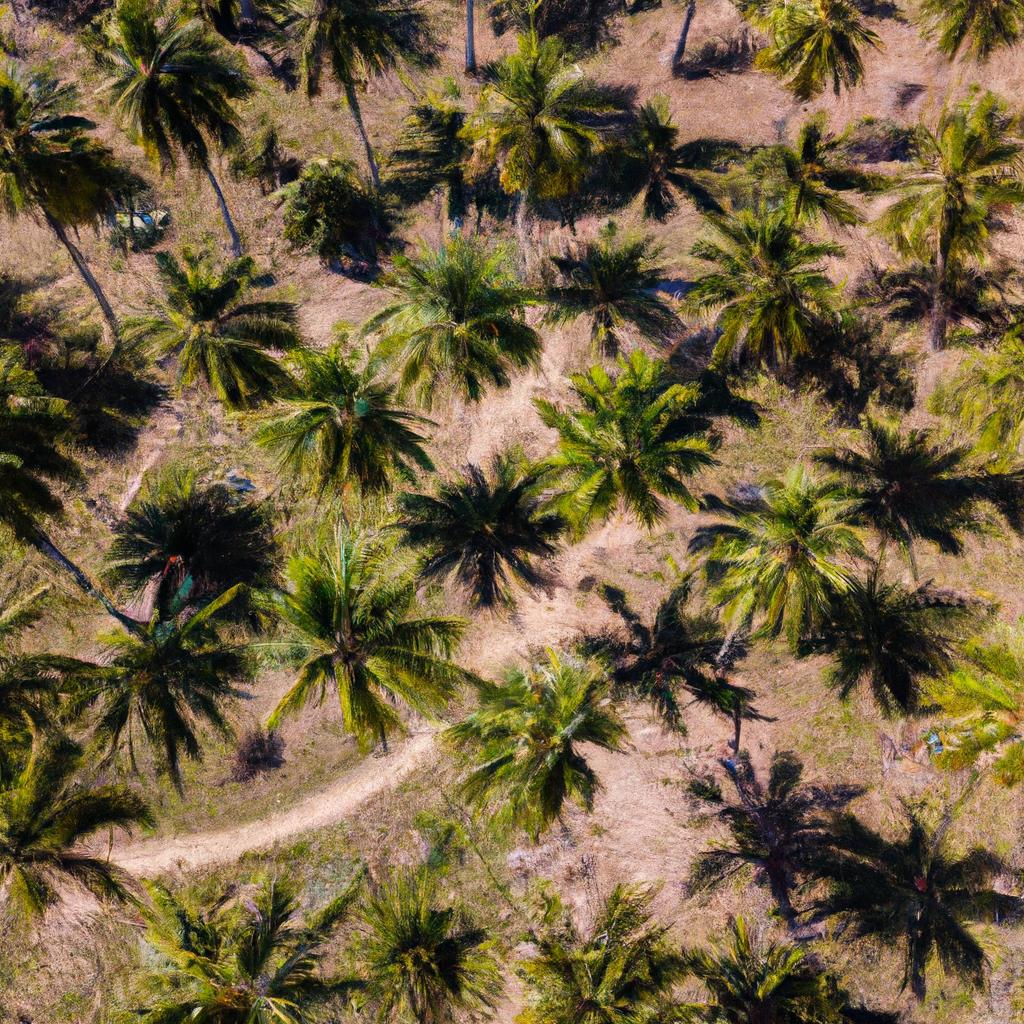coconut_tree: (243, 533, 484, 764), (446, 640, 627, 850), (525, 353, 722, 543), (443, 31, 636, 215), (671, 197, 866, 372), (357, 224, 552, 397), (247, 342, 436, 515), (708, 451, 859, 662), (100, 253, 305, 404)
